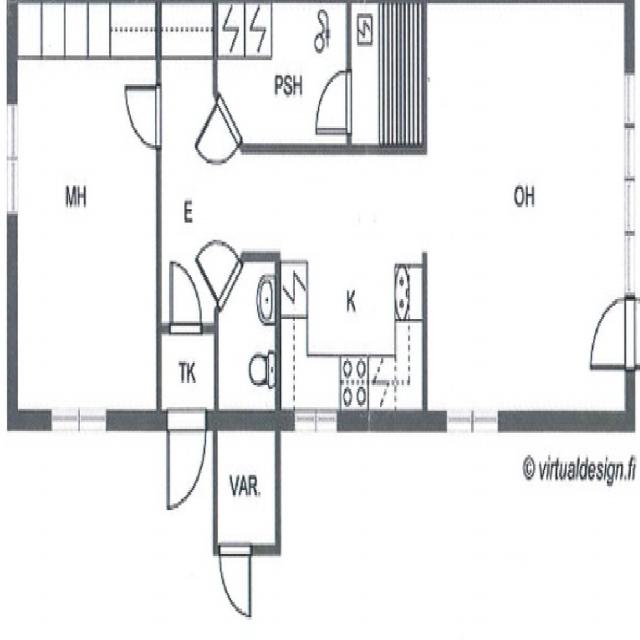door: (196, 217, 244, 310), (193, 96, 240, 190), (167, 411, 206, 511), (590, 299, 634, 368), (124, 86, 161, 148), (219, 544, 250, 616), (316, 72, 352, 134), (171, 261, 201, 333), (624, 299, 640, 368)
